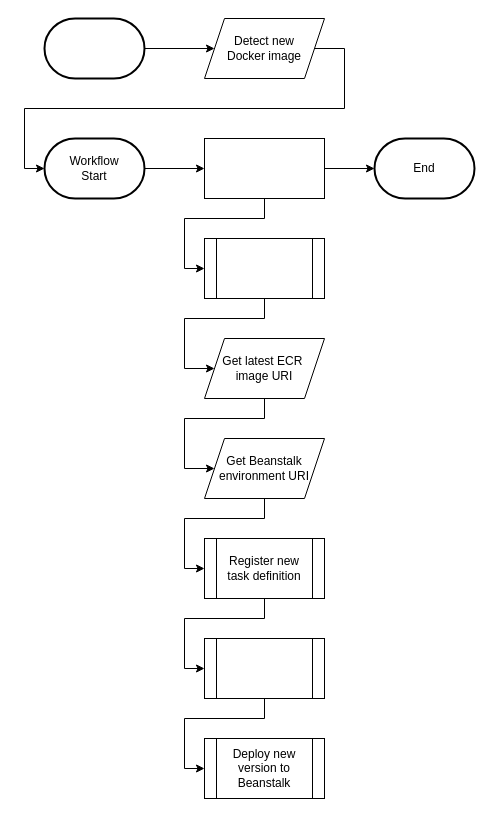
The diagram is 493 pixels wide and 816 high, and some of its shapes have lost their labels. The shapes that lost their labels are listed below. From the top down, each one's centre as x and y in pixels, then its label:
(94,48): Sart
(264,168): Deploy new ECR image to Beanstalk
(264,268): Install aws cli
(264,668): Add new task definition to ECS
